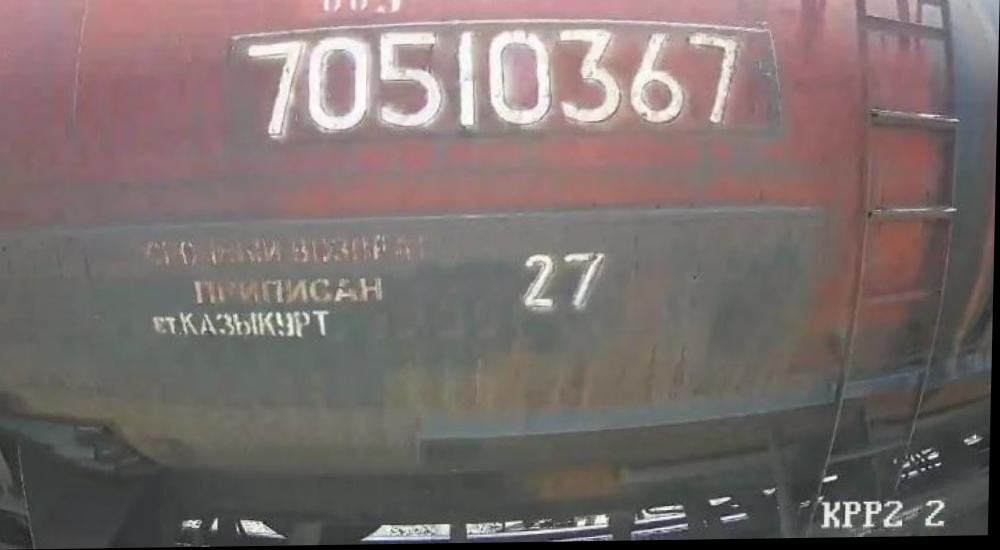Wagon-number: (234, 29, 753, 139)
